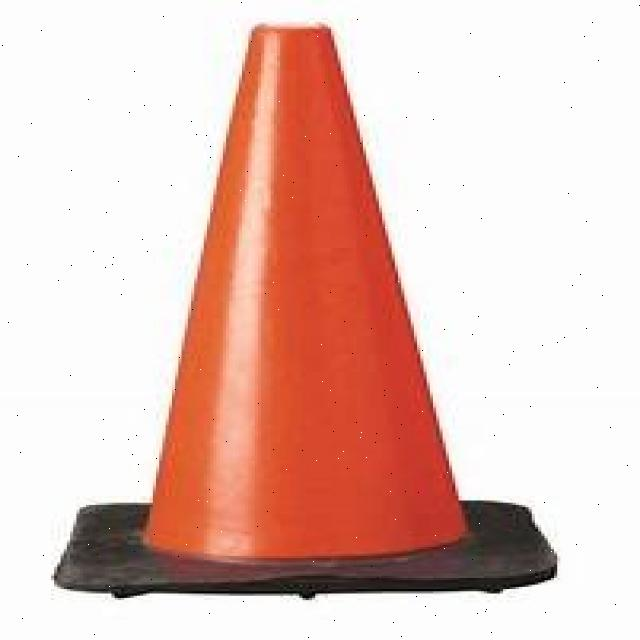traffic cone: (41, 21, 579, 612)
